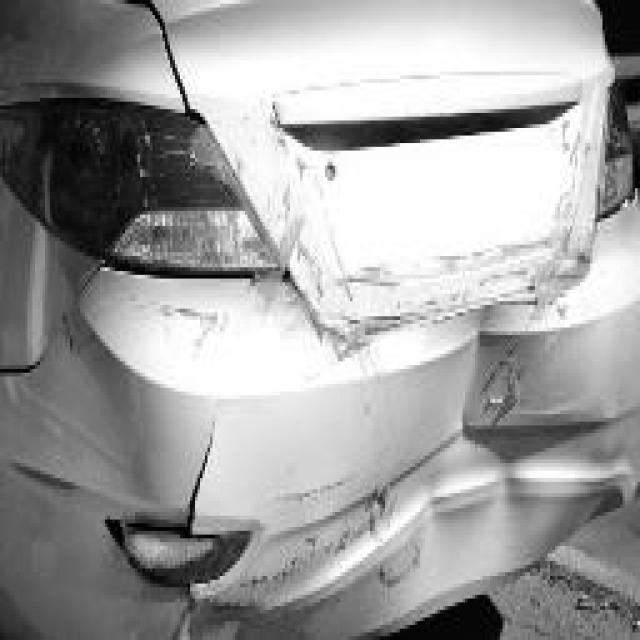Bumper: (0, 188, 640, 640)
